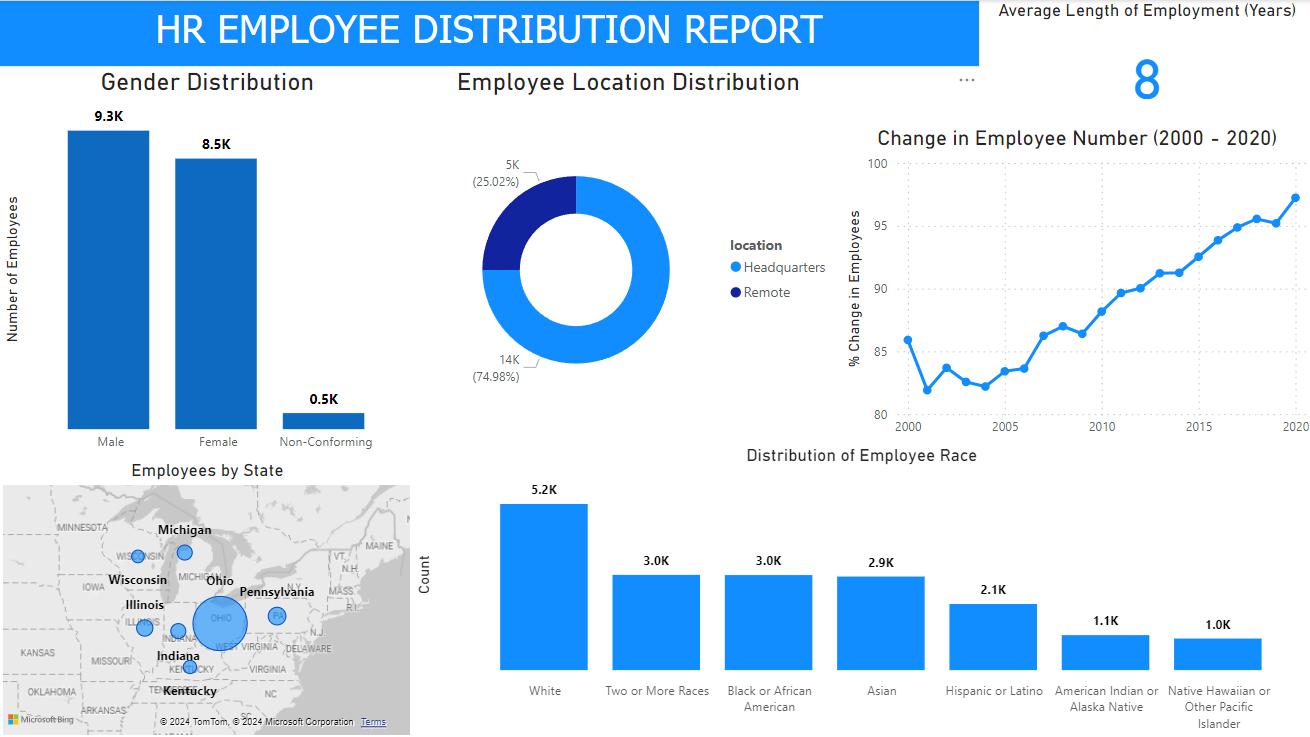

The dashboard page shown, as its layout file describes it:
{"tool":"powerbi","page":{"name":"Page 1","canvas":[1280,720],"ordinal":0},"visuals":[{"type":"textbox","box":[0,0,955.1,65.2],"z":0},{"type":"card","title":"Average Length of Employment (Years)","fields":{"Values":["Sum(avg_length_employment.avg_length_employment)"]},"box":[955.1,0,324.9,121.6],"z":1000},{"type":"columnChart","title":"Gender Distribution","fields":{"Category":["gender.gender"],"Y":["Sum(gender.count)"]},"box":[0,65.2,407.5,382.2],"z":2000},{"type":"donutChart","title":"Employee Location Distribution","fields":{"Category":["location.location"],"Y":["Sum(location.count)"]},"box":[407.5,65.2,411.4,367.7],"z":3000},{"type":"lineChart","title":"Change in Employee Number (2000 - 2020)","fields":{"Category":["net_change_pct.year"],"Y":["Sum(net_change_pct.net_change_pct)"]},"box":[819,121.6,461,311.2],"z":4000},{"type":"map","title":"Employees by State","fields":{"Category":["location_state.location_state"],"Size":["Sum(location_state.count)"]},"box":[0,447.4,407.5,272.3],"z":5000},{"type":"columnChart","title":"Distribution of Employee Race","fields":{"Category":["race.race"],"Y":["Sum(race.count)"]},"box":[400.7,432.8,879.3,286],"z":6000}]}

Visuals, with their boxes in screenshot pixels (x1, y1, x2, y2), scaled from the page's 1280x720 canvas onto the 1310x737 screenshot:
textbox: [x1=0, y1=0, x2=977, y2=67]
"Average Length of Employment (Years)" card: [x1=977, y1=0, x2=1309, y2=124]
"Gender Distribution" columnChart: [x1=0, y1=67, x2=417, y2=458]
"Employee Location Distribution" donutChart: [x1=417, y1=67, x2=838, y2=443]
"Change in Employee Number (2000 - 2020)" lineChart: [x1=838, y1=124, x2=1309, y2=443]
"Employees by State" map: [x1=0, y1=458, x2=417, y2=736]
"Distribution of Employee Race" columnChart: [x1=410, y1=443, x2=1309, y2=736]
